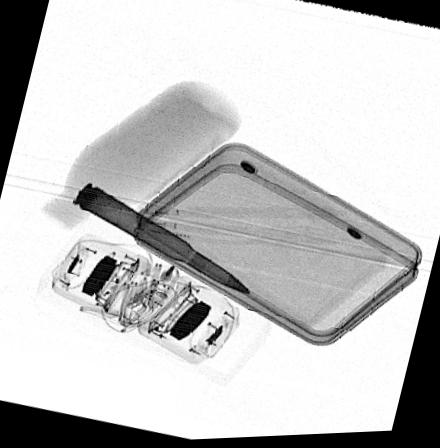Bullet: (73, 182, 255, 298)
